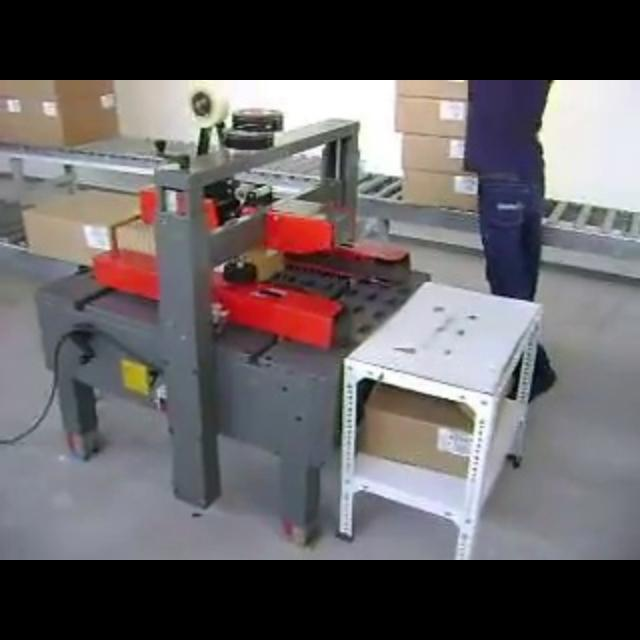Box: (359, 377, 477, 481), (390, 80, 482, 208), (19, 185, 154, 272), (0, 80, 122, 154)
